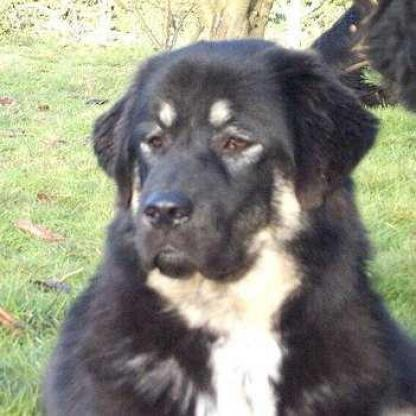Tibetan_mastiff: (38, 32, 414, 414)
